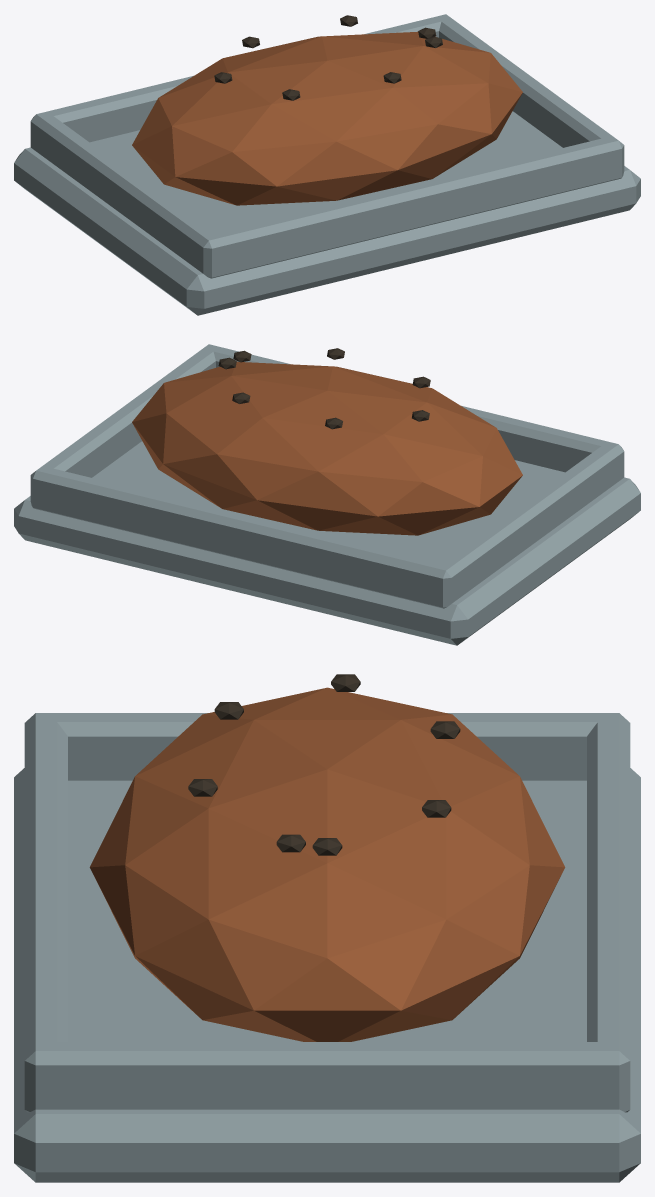
The model's file is smoked_black_pepper_pork.glb.
3 views of the same model, one above another, from view 1: azimuth 30°, elevation 25°; view 2: azimuth 150°, elevation 25°; view 3: azimuth 270°, elevation 25° (orthographic). The views are drawn at different scales.
Parts seen in each view (by area): view 1: FTF_Dish_SmokedBlackPepperPork_StaticMesh; view 2: FTF_Dish_SmokedBlackPepperPork_StaticMesh; view 3: FTF_Dish_SmokedBlackPepperPork_StaticMesh.
Boxes of the visible parts, x1,y1,x2,y2 form: FTF_Dish_SmokedBlackPepperPork_StaticMesh: (14, 14, 640, 315); FTF_Dish_SmokedBlackPepperPork_StaticMesh: (14, 344, 640, 645); FTF_Dish_SmokedBlackPepperPork_StaticMesh: (14, 674, 640, 1182).
Size of the model in its own units: 0.82 by 0.253 by 0.58.
